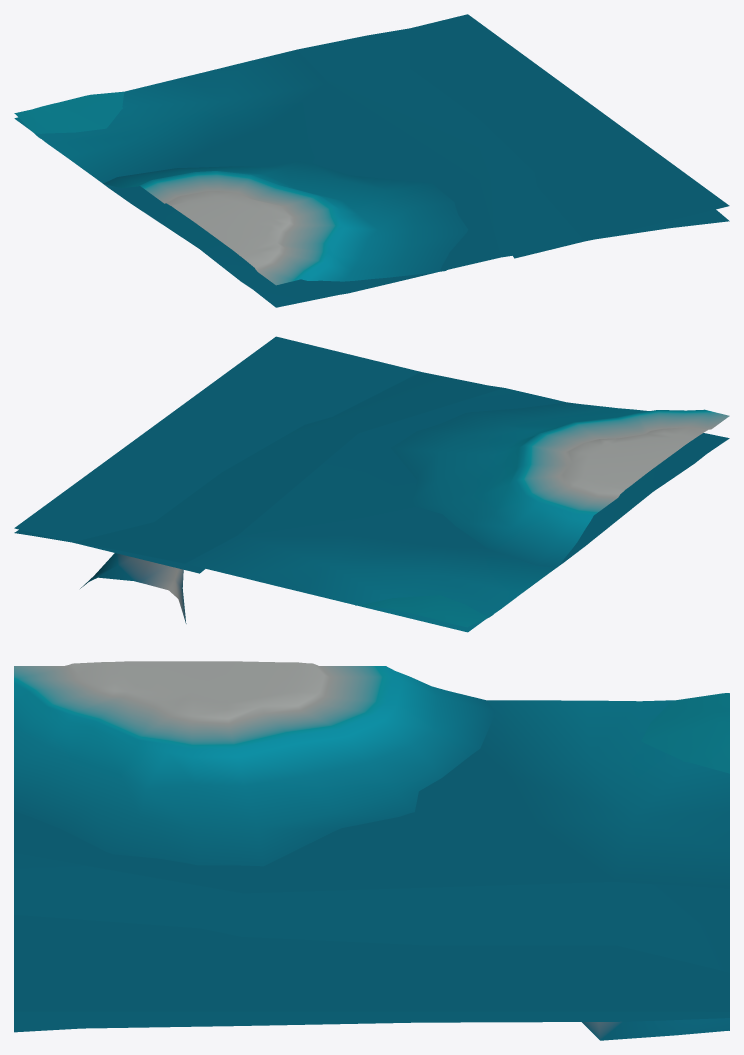
3 renders of one model, top to bottom at view 1: azimuth 30°, elevation 25°; view 2: azimuth 150°, elevation 25°; view 3: azimuth 270°, elevation 25°, orthographic. The views are drawn at different scales.
Parts seen in each view (by area): view 1: G:\FFXIV-MapTools\exports\s1f3\bg\ffxiv\sea_s1\fld\s1f3\bgpl (×7); view 2: G:\FFXIV-MapTools\exports\s1f3\bg\ffxiv\sea_s1\fld\s1f3\bgpl (×8); view 3: G:\FFXIV-MapTools\exports\s1f3\bg\ffxiv\sea_s1\fld\s1f3\bgpl (×8).
Boxes of the visible parts, x1,y1,x2,y2 form: G:\FFXIV-MapTools\exports\s1f3\bg\ffxiv\sea_s1\fld\s1f3\bgpl (×7): (14,14,729,307); G:\FFXIV-MapTools\exports\s1f3\bg\ffxiv\sea_s1\fld\s1f3\bgpl (×8): (14,336,729,632); G:\FFXIV-MapTools\exports\s1f3\bg\ffxiv\sea_s1\fld\s1f3\bgpl (×8): (14,661,729,1040).
Size of the model in its own units: 128 by 24.15 by 128.
